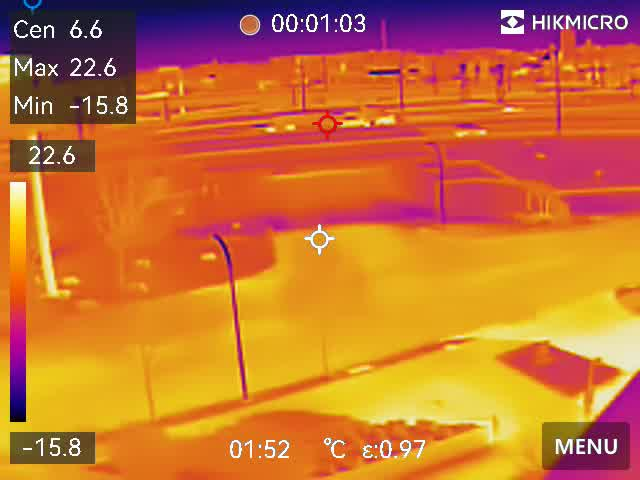vehicle: (451, 121, 488, 139), (328, 117, 371, 131), (498, 102, 526, 115)
